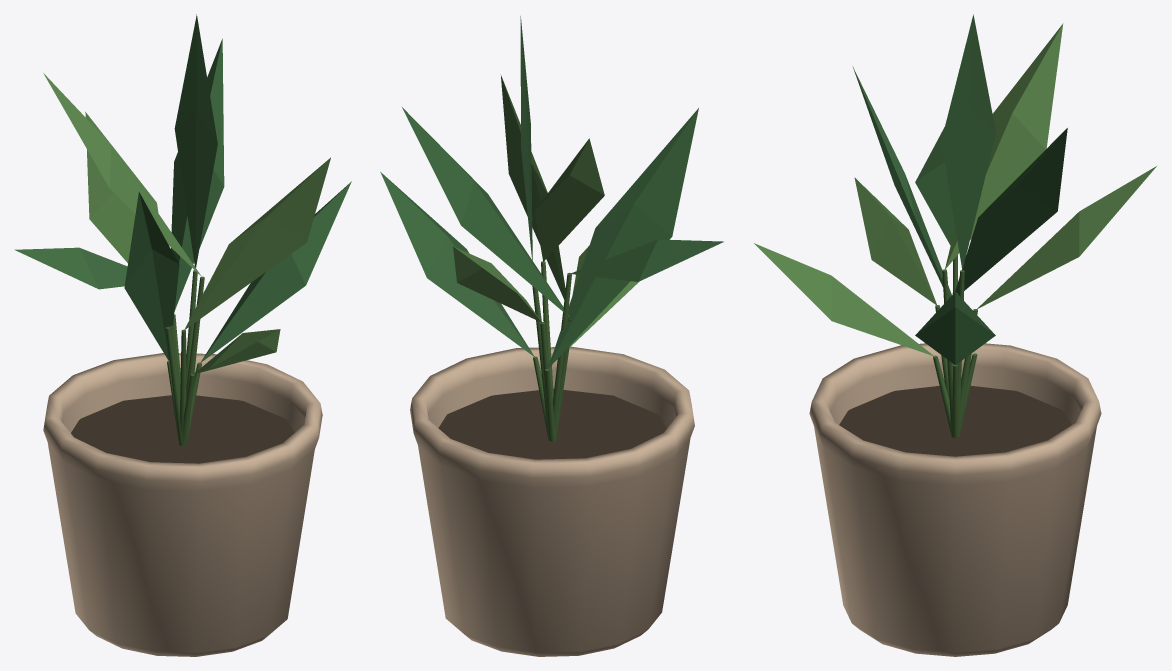
The model's file is original-plant-desk.glb.
3 views of the same model, side by side, from view 1: azimuth 30°, elevation 25°; view 2: azimuth 150°, elevation 25°; view 3: azimuth 270°, elevation 25° (orthographic). The views are drawn at different scales.
Parts seen in each view (by area): view 1: original-plant-desk; view 2: original-plant-desk; view 3: original-plant-desk.
Boxes of the visible parts, x1,y1,x2,y2 form: original-plant-desk: [14, 14, 351, 656]; original-plant-desk: [380, 16, 723, 656]; original-plant-desk: [754, 14, 1156, 656].
Bounding box in the file's own units: 0.18 × 0.3 × 0.18.
